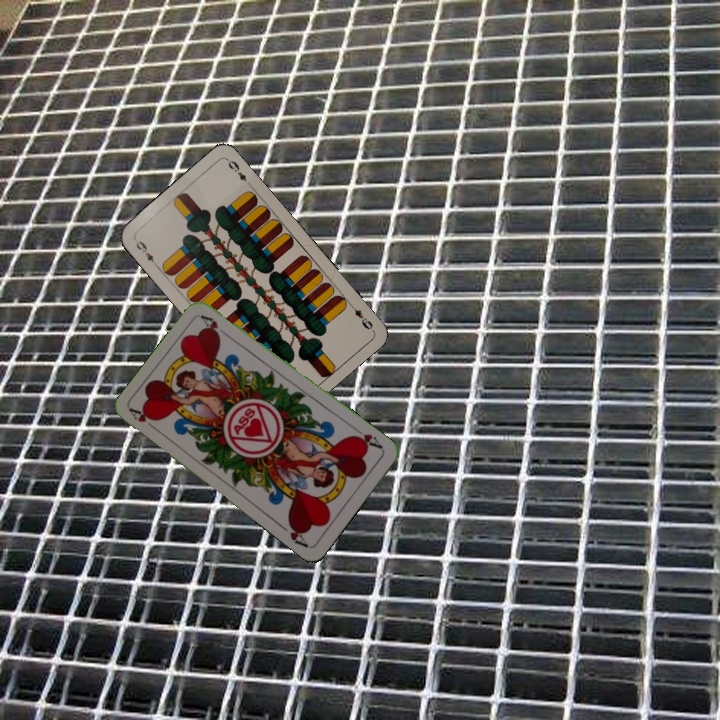E9: (345, 299, 376, 332), (130, 235, 160, 269)
HA: (126, 405, 162, 434), (348, 424, 385, 452)
